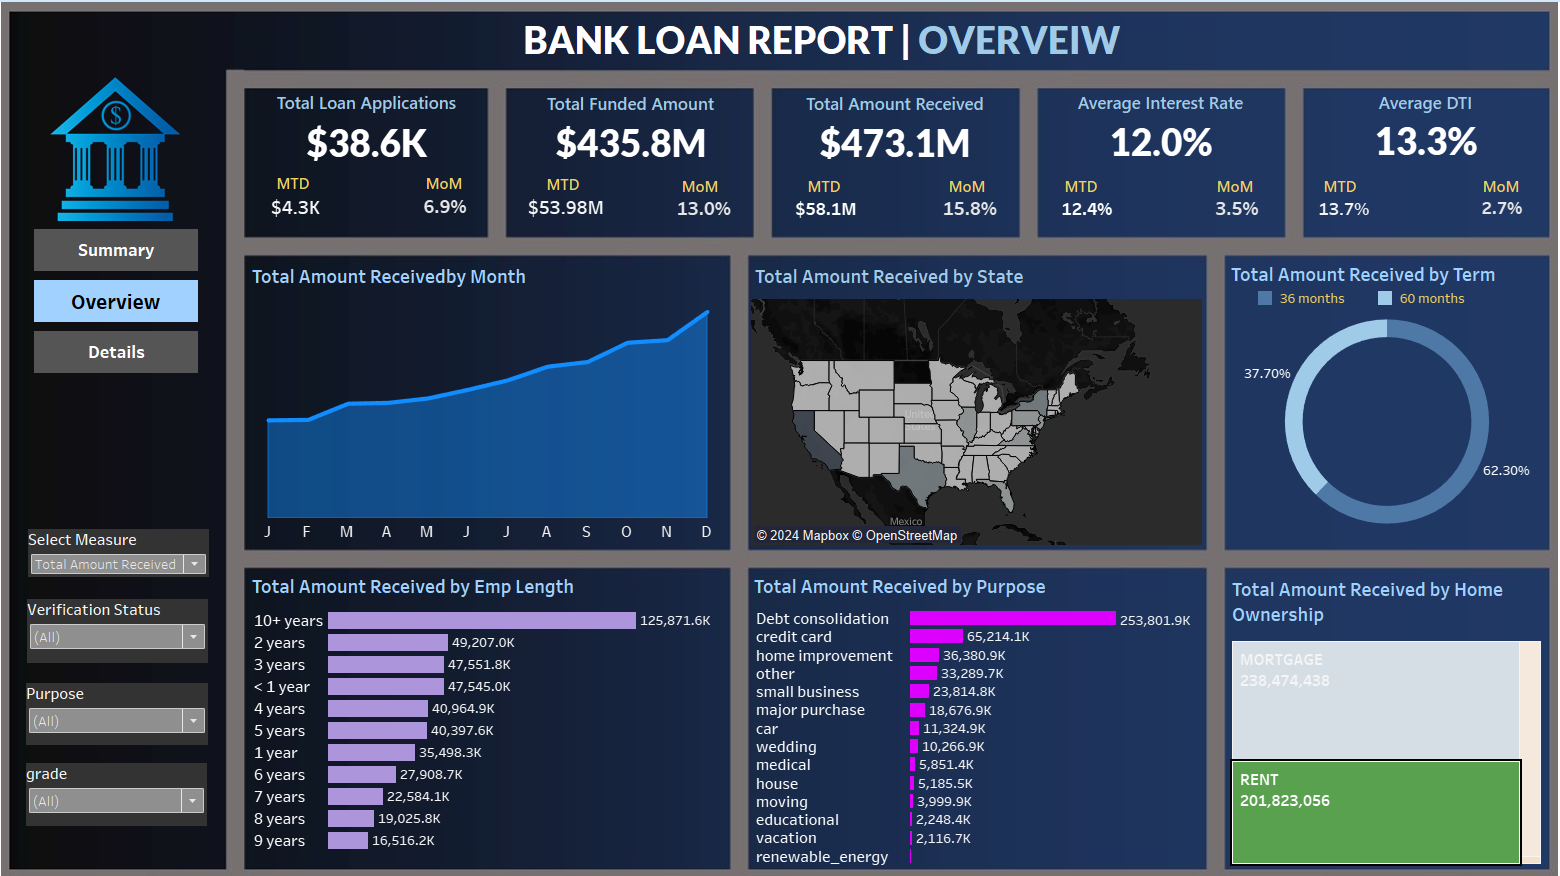

Layout of this report page (visuals, bound fields, positions):
{"tool":"tableau","page":{"name":"OVERVIEW","canvas":[1600,900],"ordinal":1},"visuals":[{"type":"text","box":[540,5,709,90]},{"type":"image","param":"D:/data analysis/sql plus power bi project/drive-download-20241129T133940Z-001/T","box":[8,8,1584,884]},{"type":"worksheet","title":"Total Loan Applications","mark":"Automatic","box":[265,97,243,74]},{"type":"worksheet","title":"Average Interest Rate","mark":"Automatic","box":[1059,97,243,71]},{"type":"worksheet","title":"Average DTI","mark":"Automatic","box":[1324,97,243,69]},{"type":"worksheet","title":"Total Funded Amount","mark":"Automatic","box":[533,98,235,71]},{"type":"worksheet","title":"Total Amount Received","mark":"Automatic","box":[794,98,242,71]},{"type":"text","box":[285,178,56,30]},{"type":"text","box":[436,178,56,30]},{"type":"text","box":[555,179,56,30]},{"type":"text","box":[692,181,56,30]},{"type":"text","box":[816,181,56,30]},{"type":"text","box":[959,181,56,30]},{"type":"text","box":[1073,181,56,30]},{"type":"text","box":[1227,181,56,30]},{"type":"text","box":[1332,181,56,30]},{"type":"text","box":[1493,181,56,30]},{"type":"worksheet","title":"MTD Total Funded Amount","mark":"Automatic","box":[541,195,89,44]},{"type":"worksheet","title":"MoM Avg DTI","mark":"Automatic","box":[1479,195,86,43]},{"type":"worksheet","title":"MoM Total Funded Amount","mark":"Automatic","box":[686,196,75,43]},{"type":"worksheet","title":"MoM Total Amount Received","mark":"Automatic","box":[949,196,81,44]},{"type":"worksheet","title":"MTD Total Loan Applications","mark":"Automatic","box":[287,199,56,35]},{"type":"worksheet","title":"MTD Avg INT Rate","mark":"Automatic","box":[1060,199,94,38]},{"type":"worksheet","title":"MTD Avg DTI","mark":"Automatic","box":[1319,199,90,37]},{"type":"worksheet","title":"MoM Avg Int Rate","mark":"Automatic","box":[1218,200,77,35]},{"type":"worksheet","title":"MTD Total Amount Received","mark":"Automatic","box":[805,201,82,34]},{"type":"worksheet","title":"MoM Loan Appications","mark":"Automatic","box":[434,202,61,27]},{"type":"dashboard-object","box":[54,239,164,42]},{"type":"worksheet","title":"Term","mark":"Pie","rows":["Calculation_1009650761992245302","Calculation_1009650761992298552"],"box":[1247,267,320,289]},{"type":"worksheet","title":"Month","mark":"Area","rows":["Calculation_1009650761975279668","Calculation_1009650761975279668"],"cols":["issue_date"],"box":[268,269,479,284]},{"type":"worksheet","title":"State","mark":"Multipolygon","box":[771,269,451,286]},{"type":"dashboard-object","box":[54,290,164,42]},{"type":"legend","title":"Term","param":"[federated.1mws0540yeynuy15g0irx0qm9odg].[none:term:nk]","box":[1275,298,277,26]},{"type":"dashboard-object","box":[54,341,164,42]},{"type":"parameter","param":"[Parameters].[Parameter 1]","box":[48,539,181,48]},{"type":"worksheet","title":"Emp Length","mark":"Automatic","rows":["emp_length"],"cols":["Calculation_1009650761975279668"],"box":[268,579,482,293]},{"type":"worksheet","title":"Purpose","mark":"Automatic","rows":["purpose"],"cols":["Calculation_1009650761975279668"],"box":[770,579,455,296]},{"type":"worksheet","title":"Home Own","mark":"Automatic","box":[1248,582,320,295]},{"type":"filter","title":"Average DTI","param":"[federated.1mws0540yeynuy15g0irx0qm9odg].[none:verification_status:nk]","box":[47,609,181,64]},{"type":"filter","title":"Average DTI","param":"[federated.1mws0540yeynuy15g0irx0qm9odg].[none:purpose:nk]","box":[46,693,182,62]},{"type":"filter","title":"Average DTI","param":"[federated.1mws0540yeynuy15g0irx0qm9odg].[none:grade:nk]","box":[46,773,181,63]}]}

Visuals, with their boxes in screenshot pixels (x1, y1, x2, y2), scaled from the page's 1600x900 canvas onto the 1560x876 screenshot:
text: region(526, 5, 1218, 92)
image: region(8, 8, 1552, 868)
"Total Loan Applications" worksheet: region(258, 94, 495, 166)
"Average Interest Rate" worksheet: region(1033, 94, 1269, 164)
"Average DTI" worksheet: region(1291, 94, 1528, 162)
"Total Funded Amount" worksheet: region(520, 95, 749, 164)
"Total Amount Received" worksheet: region(774, 95, 1010, 164)
text: region(278, 173, 332, 202)
text: region(425, 173, 480, 202)
text: region(541, 174, 596, 203)
text: region(675, 176, 729, 205)
text: region(796, 176, 850, 205)
text: region(935, 176, 990, 205)
text: region(1046, 176, 1101, 205)
text: region(1196, 176, 1251, 205)
text: region(1299, 176, 1353, 205)
text: region(1456, 176, 1510, 205)
"MTD Total Funded Amount" worksheet: region(527, 190, 614, 233)
"MoM Avg DTI" worksheet: region(1442, 190, 1526, 232)
"MoM Total Funded Amount" worksheet: region(669, 191, 742, 233)
"MoM Total Amount Received" worksheet: region(925, 191, 1004, 234)
"MTD Total Loan Applications" worksheet: region(280, 194, 334, 228)
"MTD Avg INT Rate" worksheet: region(1034, 194, 1125, 231)
"MTD Avg DTI" worksheet: region(1286, 194, 1374, 230)
"MoM Avg Int Rate" worksheet: region(1188, 195, 1263, 229)
"MTD Total Amount Received" worksheet: region(785, 196, 865, 229)
"MoM Loan Appications" worksheet: region(423, 197, 483, 223)
dashboard-object: region(53, 233, 213, 274)
"Term" worksheet (Pie marks): region(1216, 260, 1528, 541)
"Month" worksheet (Area marks): region(261, 262, 728, 538)
"State" worksheet (Multipolygon marks): region(752, 262, 1191, 540)
dashboard-object: region(53, 282, 213, 323)
"Term" legend: region(1243, 290, 1513, 315)
dashboard-object: region(53, 332, 213, 373)
parameter: region(47, 525, 223, 571)
"Emp Length" worksheet: region(261, 564, 731, 849)
"Purpose" worksheet: region(751, 564, 1194, 852)
"Home Own" worksheet: region(1217, 566, 1529, 854)
"Average DTI" filter: region(46, 593, 222, 655)
"Average DTI" filter: region(45, 675, 222, 735)
"Average DTI" filter: region(45, 752, 221, 814)
